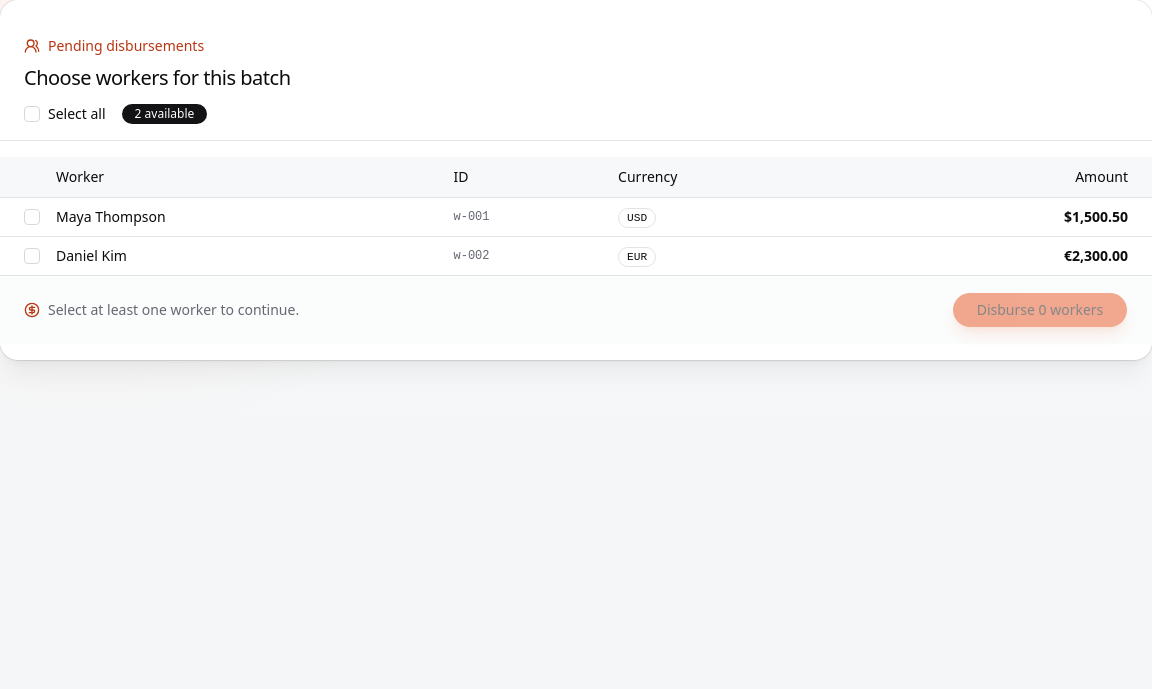
Test: DisbursementDashboard › shows pending work immediately and polls until every result is terminal
Expected: the text "Maya Thompson" is shown, x1=56 y1=206 x2=166 y2=226
Click the checkbox named "Select Maya Thompson". click: click(32, 216)
box: x1=24 y1=208 x2=40 y2=224
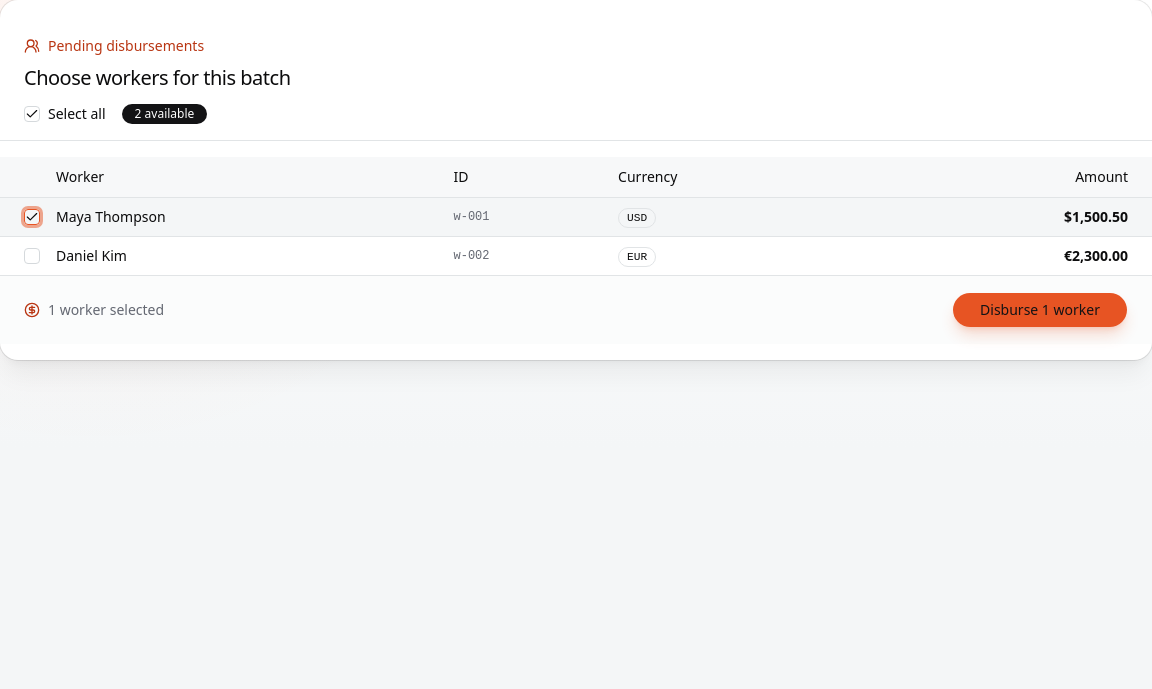
Click the button "Disburse 1 worker". click: click(1040, 310)
box: x1=952 y1=292 x2=1128 y2=328
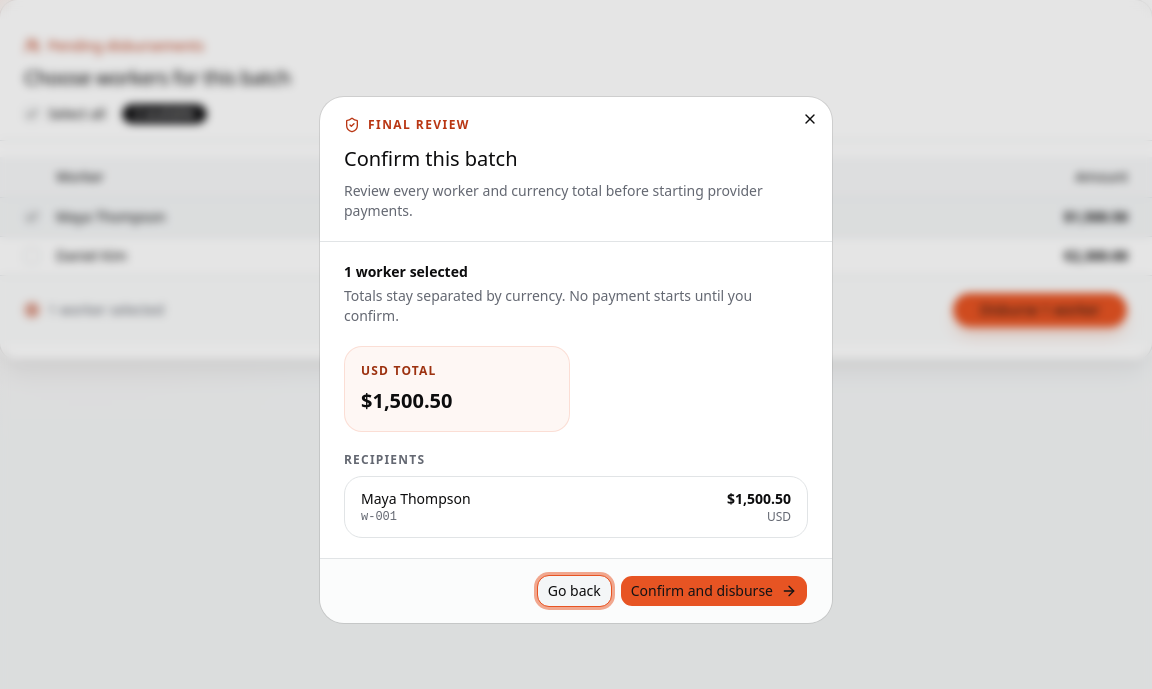
Click the button "Confirm and disburse". click: click(714, 591)
box: x1=620 y1=575 x2=808 y2=607
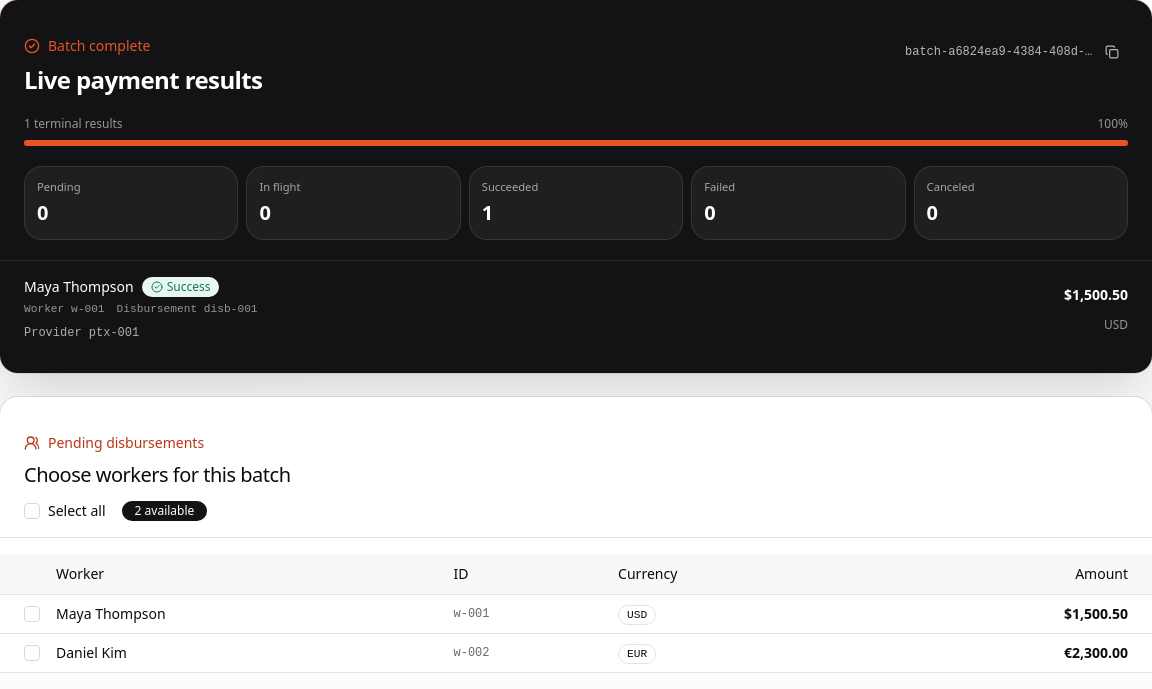
Now the text "Pending" is shown, box x1=37 y1=179 x2=81 y2=194
Now the button with aria-label "Copy batch ID" is shown, box x1=896 y1=36 x2=1128 y2=68
Now the text "Success" is shown
Hover over the text "Success" at (180, 287), box x1=142 y1=277 x2=219 y2=297
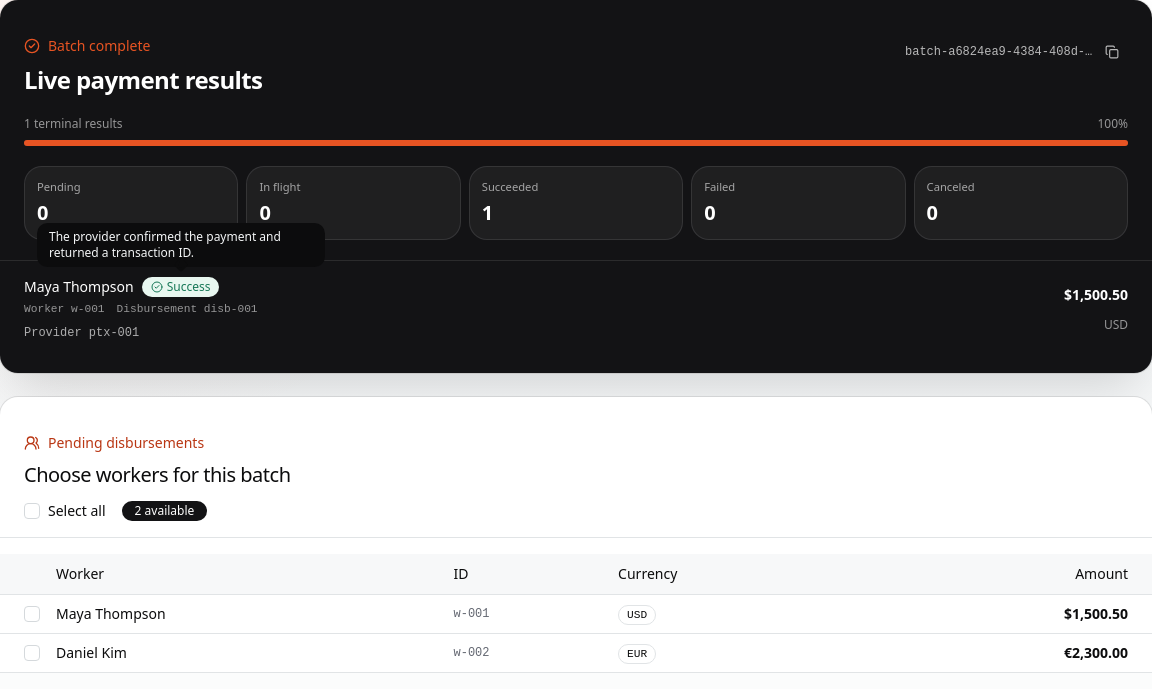
Now the text "Provider ptx-001" is shown, box x1=24 y1=326 x2=139 y2=340
Now the text "1" is shown, box x1=482 y1=199 x2=493 y2=226
Now the tooltip "The provider confirmed the payment and returned a transaction ID." is shown, box x1=37 y1=223 x2=325 y2=267
